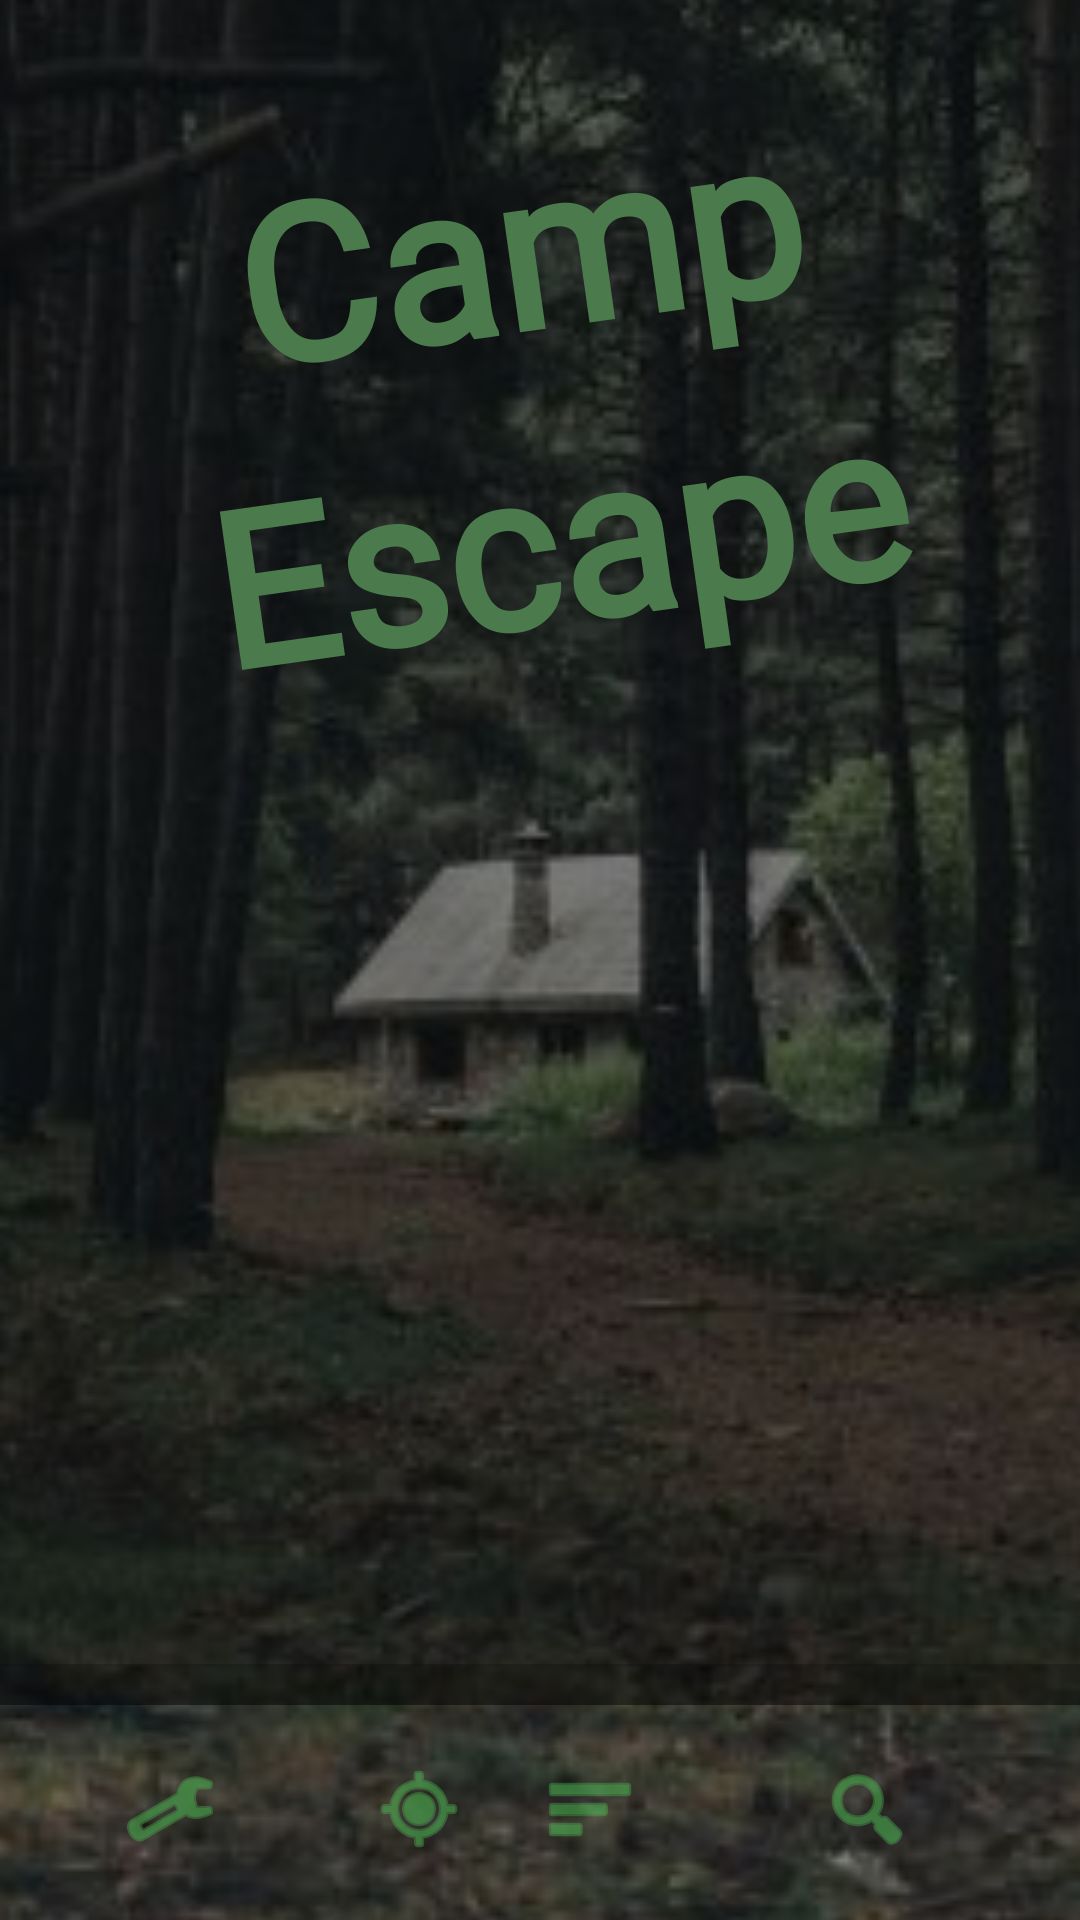

Where icons sit on this 1080 x 1920 app screen, as (x1, y1, x2, y2):
manage: (95, 1749, 224, 1874)
mylocation: (348, 1734, 482, 1873)
search: (832, 1740, 931, 1845)
